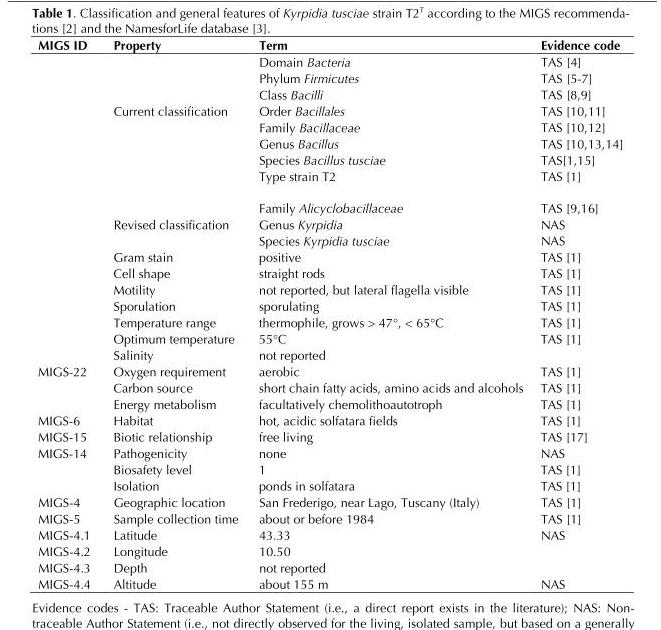table: (36, 37, 622, 591)
table column: (247, 37, 531, 591), (101, 37, 247, 591), (531, 37, 622, 591), (36, 37, 101, 591)
table column header: (36, 37, 622, 53)
table row: (36, 526, 622, 559), (36, 167, 622, 191), (36, 191, 622, 215), (36, 69, 622, 86), (36, 118, 622, 135), (36, 215, 622, 232), (36, 264, 622, 281), (36, 313, 622, 330), (36, 362, 622, 379), (36, 395, 622, 412), (36, 460, 622, 477), (36, 493, 622, 510), (36, 37, 622, 53), (36, 53, 622, 69), (36, 86, 622, 102), (36, 102, 622, 118), (36, 135, 622, 151), (36, 151, 622, 167), (36, 232, 622, 248), (36, 248, 622, 264), (36, 281, 622, 297), (36, 297, 622, 313), (36, 330, 622, 346), (36, 346, 622, 362), (36, 379, 622, 395), (36, 412, 622, 428), (36, 428, 622, 444), (36, 444, 622, 460), (36, 477, 622, 493), (36, 510, 622, 526), (36, 559, 622, 575), (36, 575, 622, 591)
table spanning cell: (101, 53, 247, 191), (36, 362, 101, 412), (36, 444, 101, 493)
